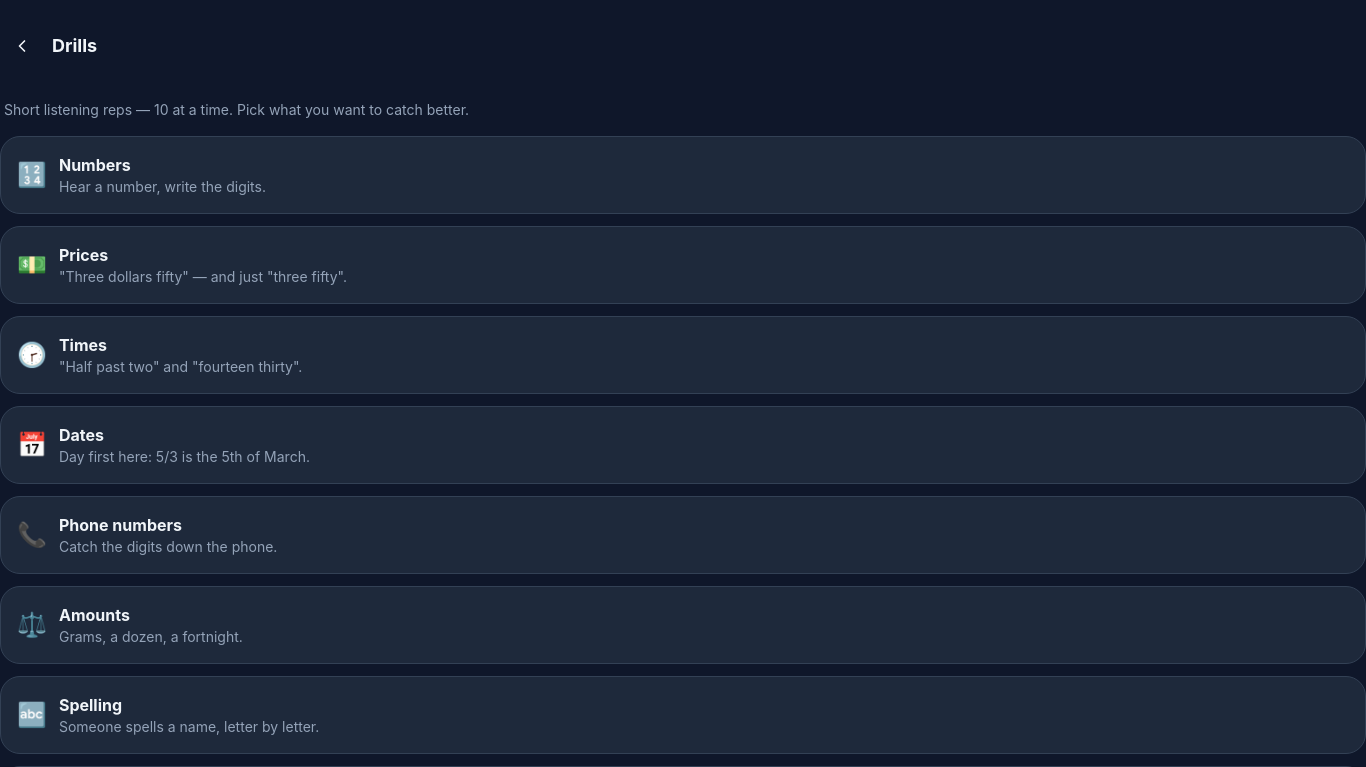
Test: Drills runner › plays the next item even when it says the very same thing
Click the button with test id "drill-price": (84, 255) [0,226,1365,304]
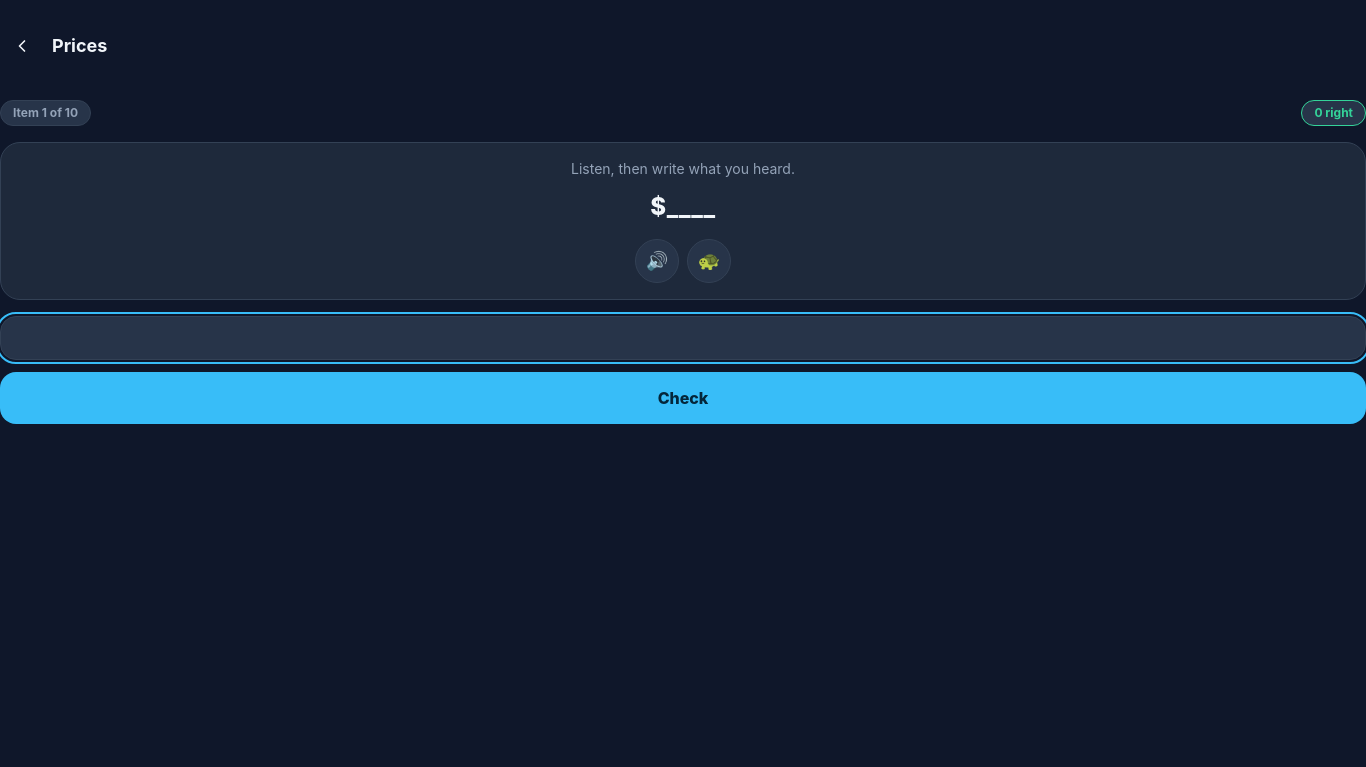
In the field named "type what you heard": (683, 338) [0,316,1365,360], type "1.00"
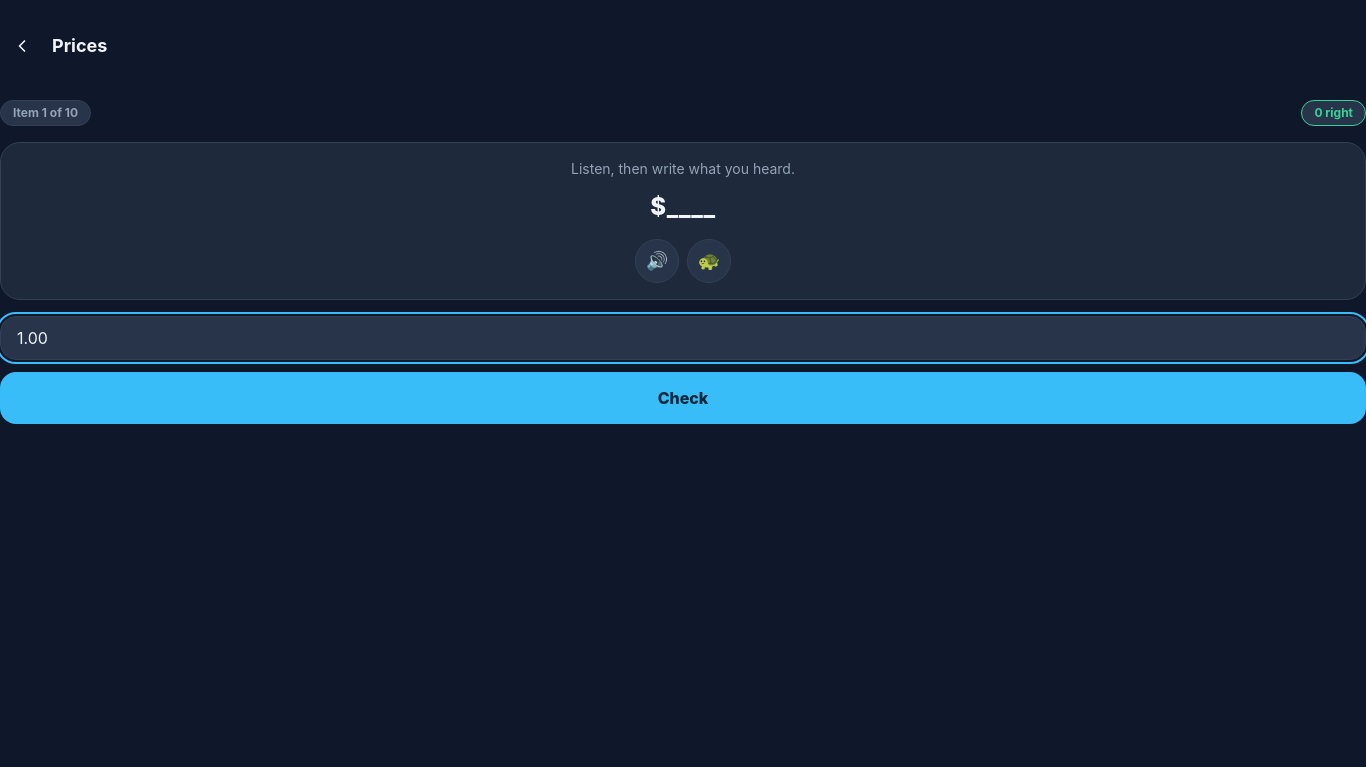
Click the button "Check": (683, 398) [0,372,1365,424]
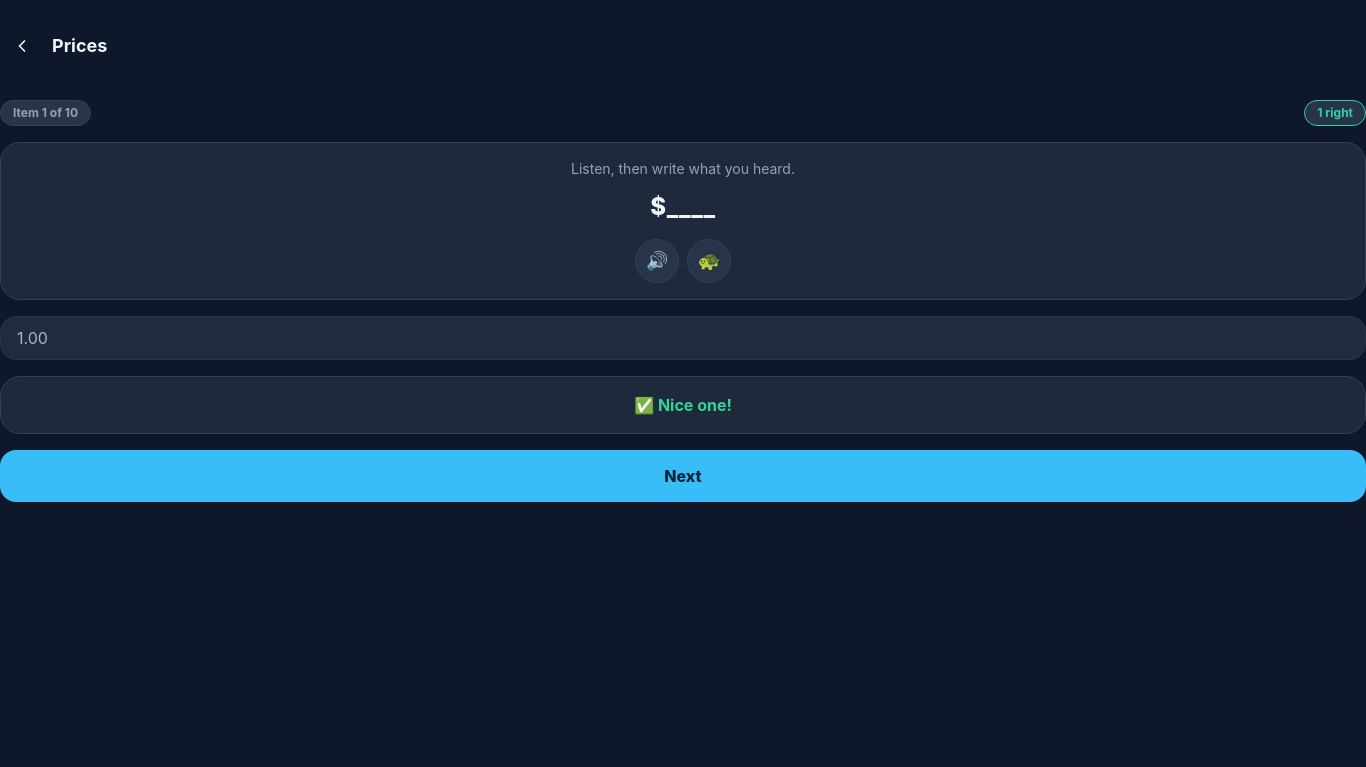
Click the button "Next": (683, 476) [0,450,1365,502]
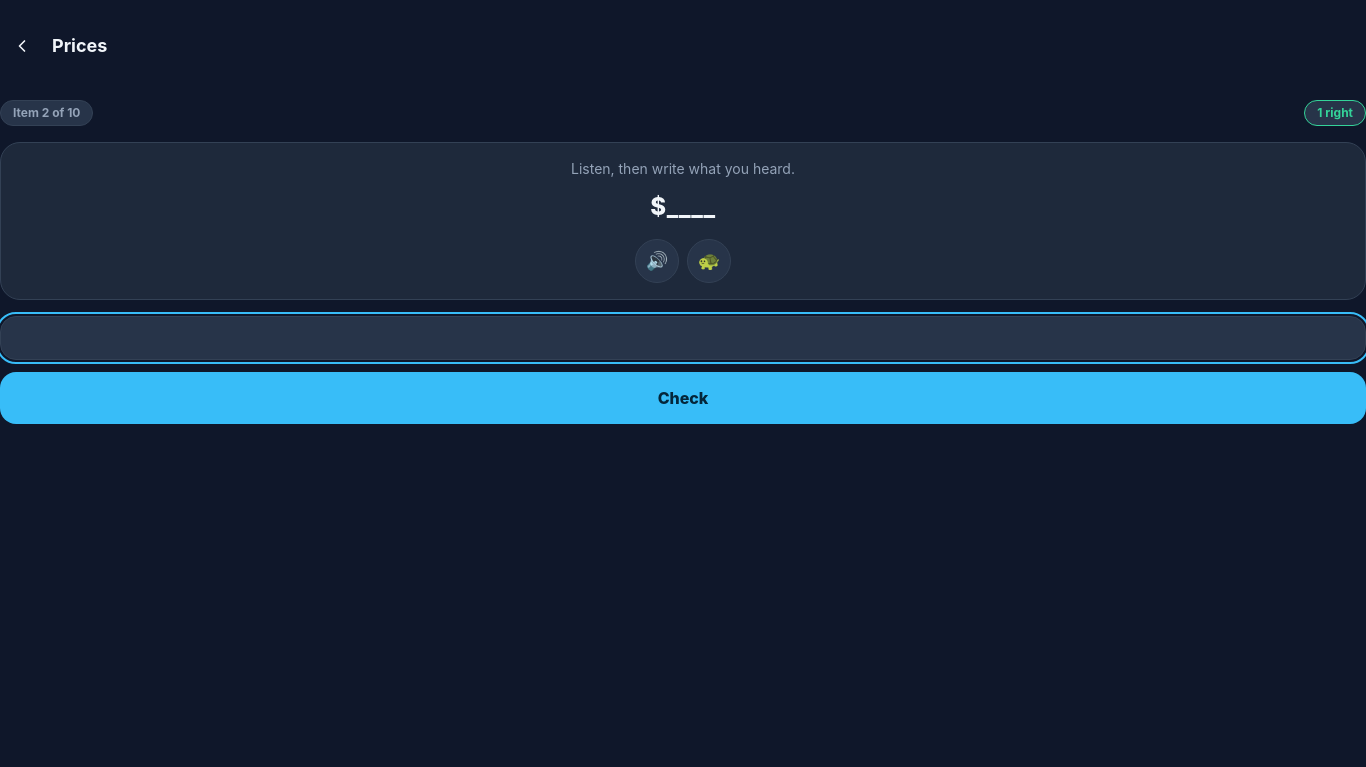
Now the text "Item 2 of 10" is shown, box [0,100,93,126]
